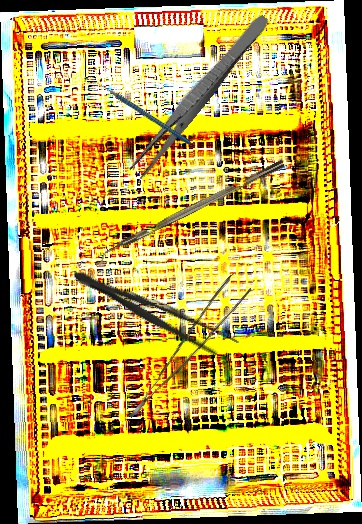Chopper: (92, 159, 290, 269), (86, 54, 192, 172)
Dressing Forceps: (126, 8, 272, 182), (67, 261, 242, 363)
Tissue Forceps: (107, 271, 259, 419)
